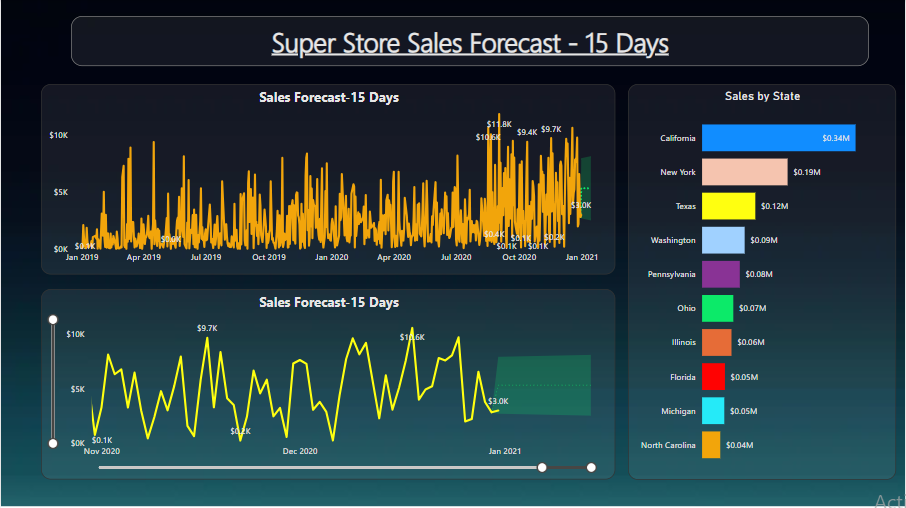

The page's visual inventory and layout, read from the dashboard file:
{"tool":"powerbi","page":{"name":"Page 2","canvas":[1280,720],"ordinal":1},"visuals":[{"type":"lineChart","title":"Sales Forecast-15 Days","fields":{"Y":["Sum(SuperStore_Sales_Dataset.Sales)"],"Category":["SuperStore_Sales_Dataset.Order Date"]},"box":[57.1,118.6,814.3,270],"z":0},{"type":"lineChart","title":"Sales Forecast-15 Days","fields":{"Y":["Sum(SuperStore_Sales_Dataset.Sales)"],"Category":["SuperStore_Sales_Dataset.Order Date"]},"box":[57.1,410,814.3,270],"z":1000},{"type":"clusteredBarChart","title":"Sales by State","fields":{"Y":["Sum(SuperStore_Sales_Dataset.Sales)"],"Category":["SuperStore_Sales_Dataset.State"]},"box":[888.6,118.6,380,561.4],"z":2000},{"type":"textbox","box":[98.6,22.9,1131.4,71.4],"z":3000}]}

Visuals, with their boxes in screenshot pixels (x1, y1, x2, y2), scaled from the page's 1280x720 canvas onto the 906x508 screenshot:
"Sales Forecast-15 Days" lineChart: bbox(40, 84, 617, 274)
"Sales Forecast-15 Days" lineChart: bbox(40, 289, 617, 480)
"Sales by State" clusteredBarChart: bbox(629, 84, 898, 480)
textbox: bbox(70, 16, 871, 67)
